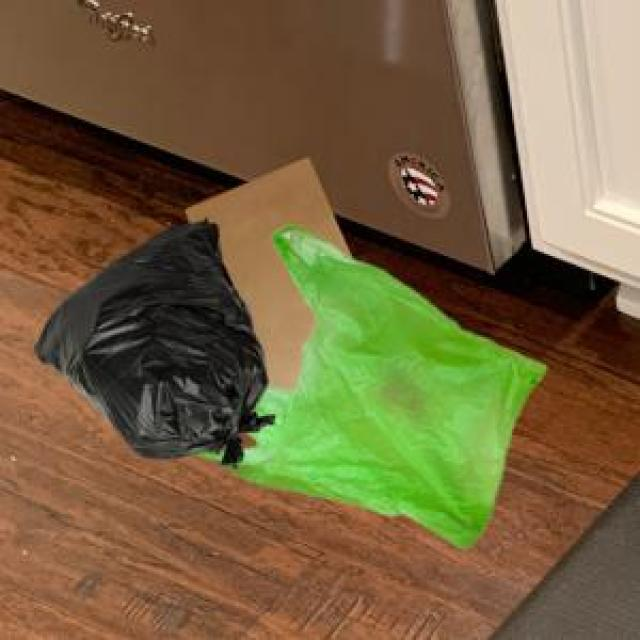miscellaneous trash: (30, 216, 271, 463)
paper: (181, 154, 348, 390)
